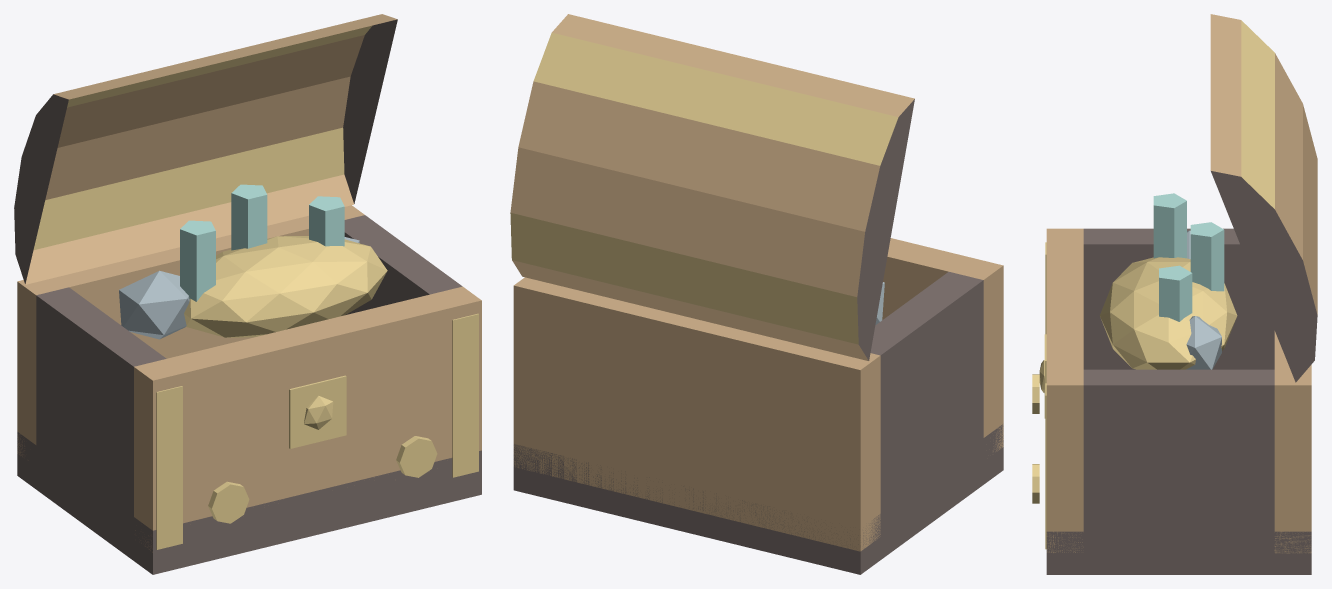
Rendered from world_loot_chest_open.fbx.
3 views of the same model, side by side, from view 1: azimuth 30°, elevation 25°; view 2: azimuth 150°, elevation 25°; view 3: azimuth 270°, elevation 25° (orthographic). The views are drawn at different scales.
Parts seen in each view (by area): view 1: Body, Lid; view 2: Body, Lid; view 3: Body, Lid.
Boxes of the visible parts, bbox=[...] form: Body: bbox=[17, 184, 481, 574]; Lid: bbox=[14, 14, 397, 284]; Body: bbox=[513, 238, 1003, 574]; Lid: bbox=[510, 14, 914, 360]; Body: bbox=[1032, 193, 1311, 574]; Lid: bbox=[1210, 14, 1317, 382].
Bounding box in the file's own units: 0.7 × 0.8417 × 0.5382.
